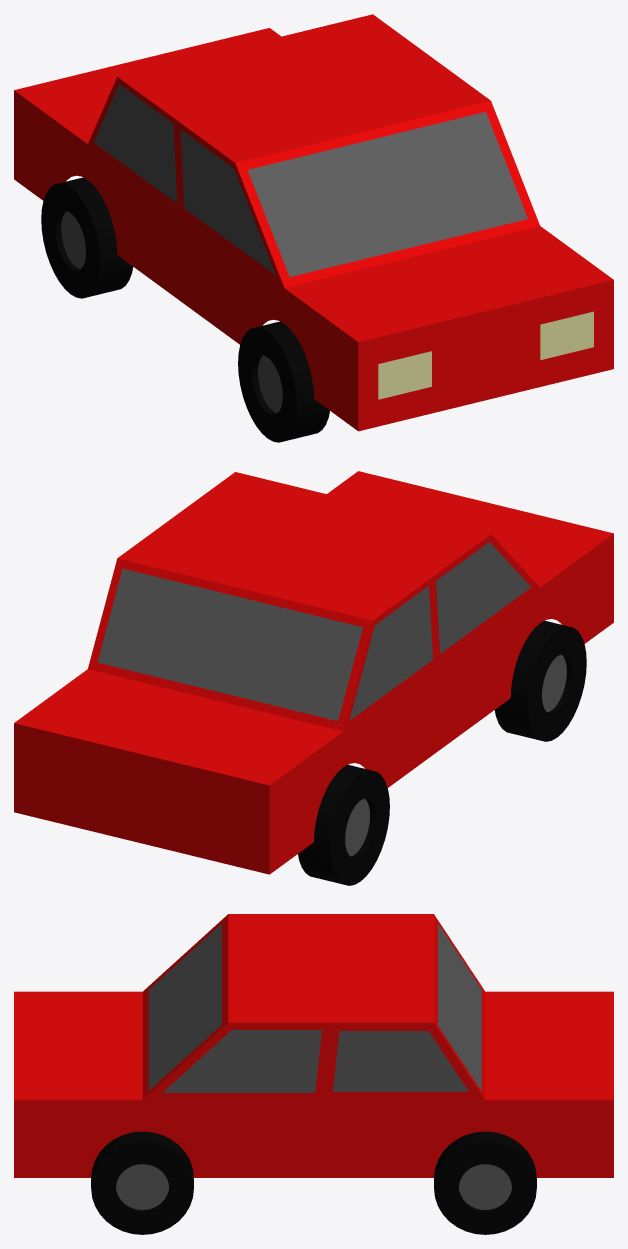
The model's file is car.glb.
3 views of the same model, one above another, from view 1: azimuth 30°, elevation 25°; view 2: azimuth 150°, elevation 25°; view 3: azimuth 270°, elevation 25° (orthographic). The views are drawn at different scales.
Visible parts, largest first — view 1: Cube; view 2: Cube; view 3: Cube.
Part boxes in pixels (x1=…): Cube: x1=14, y1=14, x2=613, y2=442; Cube: x1=14, y1=471, x2=613, y2=885; Cube: x1=14, y1=914, x2=613, y2=1234.
Bounding box in the file's own units: 3.4 × 2.64 × 7.
